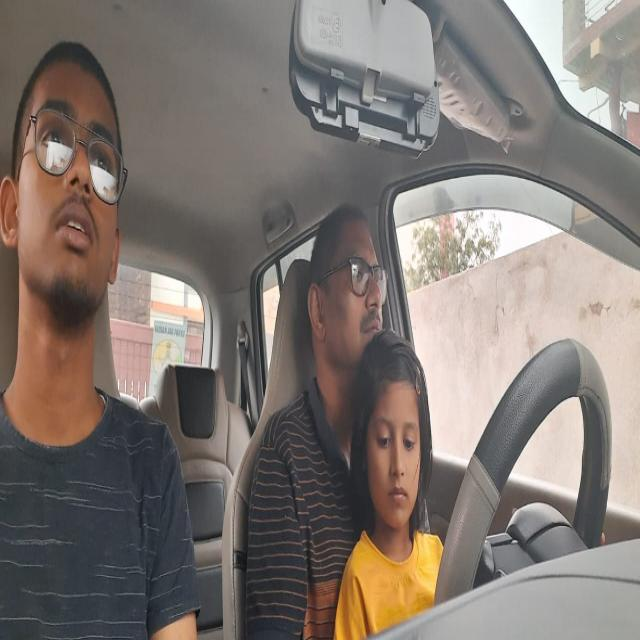child: (352, 324, 428, 531)
person: (0, 32, 128, 340), (306, 195, 388, 354)
